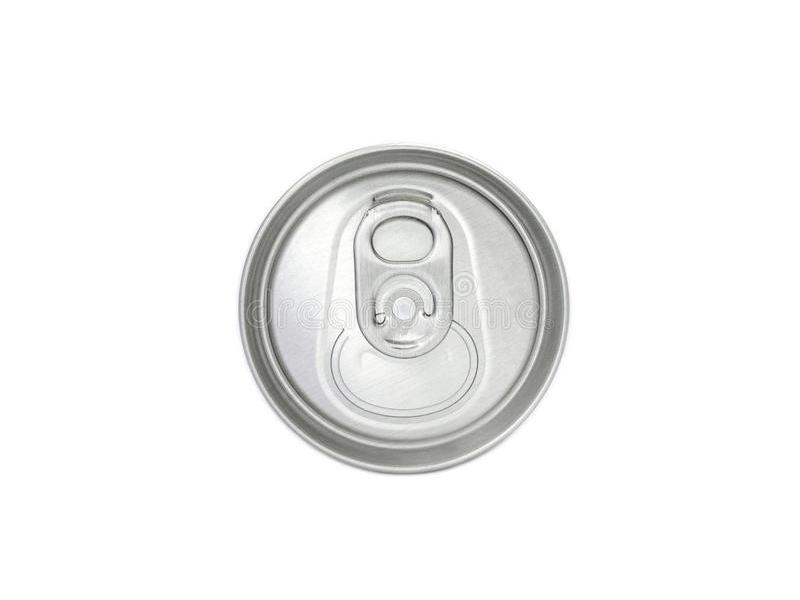can: (233, 144, 567, 478)
